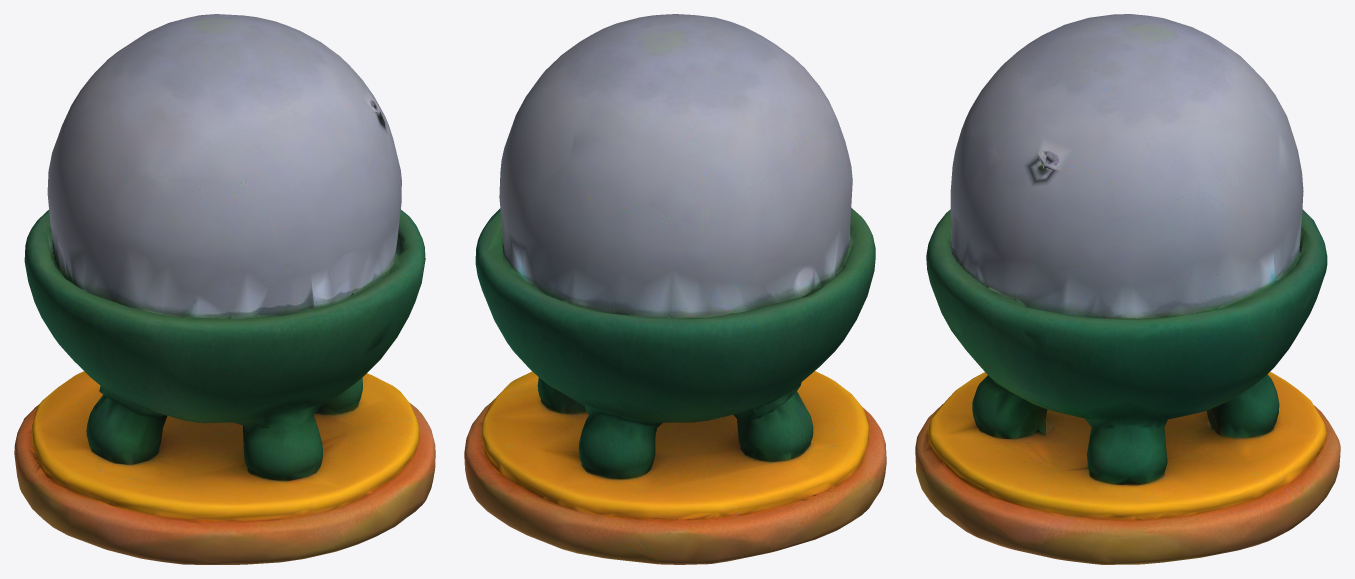
File: icon-fortune.glb
3 views of the same model, side by side, from view 1: azimuth 30°, elevation 25°; view 2: azimuth 150°, elevation 25°; view 3: azimuth 270°, elevation 25° (orthographic).
Visible parts, largest first — view 1: Mesh_0; view 2: Mesh_0; view 3: Mesh_0.
Part boxes in pixels (x1,y1,x2,y2): Mesh_0: (14,14,435,564); Mesh_0: (464,14,886,564); Mesh_0: (915,14,1340,564).
Bounding box in the file's own units: 1.71 × 2 × 1.71.
1 material, 1 textured.
